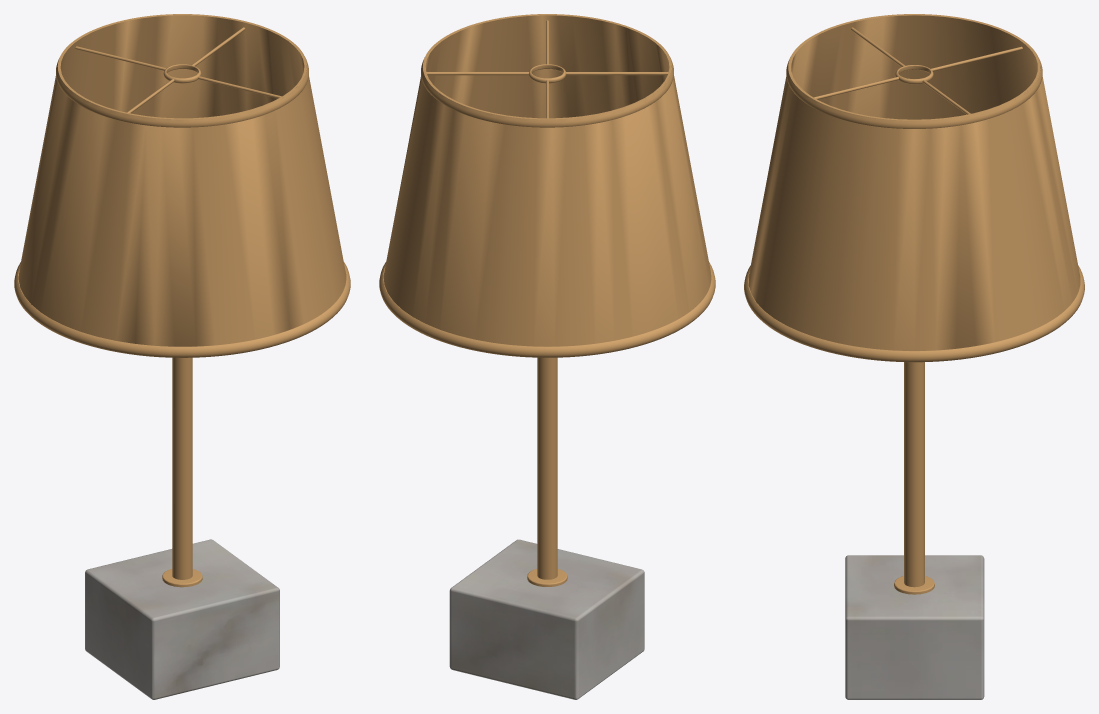
3 renders of one model, left to right at view 1: azimuth 30°, elevation 25°; view 2: azimuth 150°, elevation 25°; view 3: azimuth 270°, elevation 25°, orthographic.
Visible parts, largest first — view 1: RootNode; view 2: RootNode; view 3: RootNode.
Boxes of the visible parts, x1,y1,x2,y2 form: RootNode: (14, 14, 350, 699); RootNode: (379, 14, 715, 699); RootNode: (744, 14, 1084, 699).
Bounding box in the file's own units: 0.2084 × 0.406 × 0.2084.
1 material, 1 textured.
